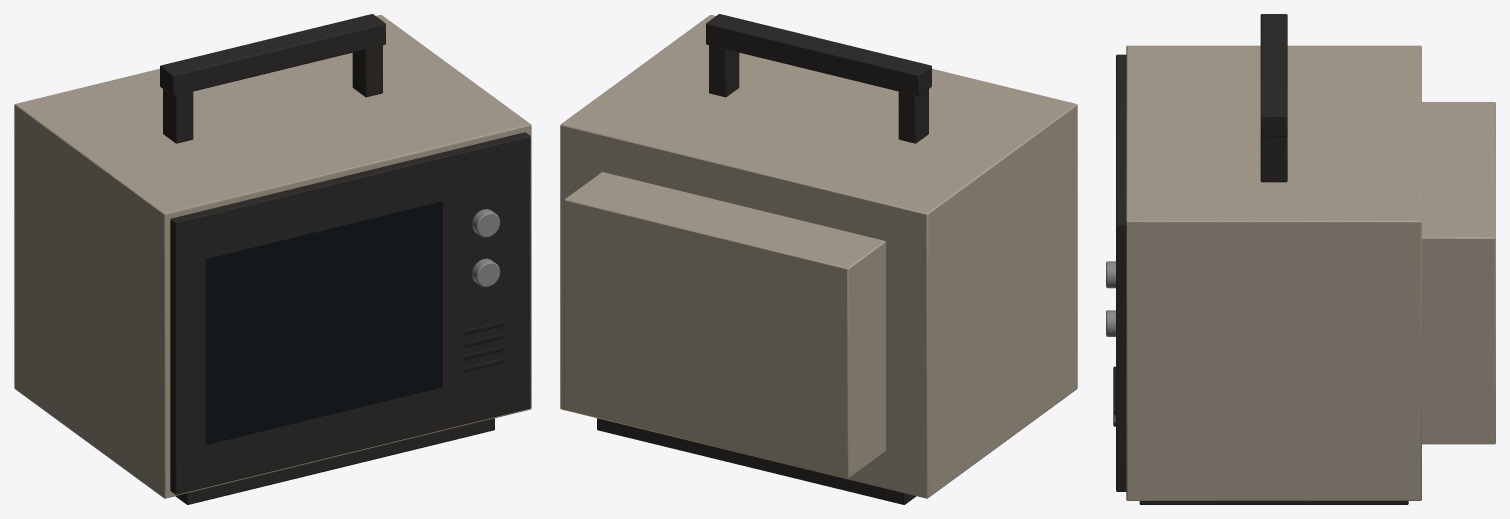
Rendered from SM_F_TV_Portable.gltf.
3 renders of one model, left to right at view 1: azimuth 30°, elevation 25°; view 2: azimuth 150°, elevation 25°; view 3: azimuth 270°, elevation 25°, orthographic.
Visible parts, largest first — view 1: SM_F_TV_Portable_LookDev02__Body, SM_F_TV_Portable_LookDev02__Screen; view 2: SM_F_TV_Portable_LookDev02__Body; view 3: SM_F_TV_Portable_LookDev02__Body.
Part boxes in pixels (<box>): SM_F_TV_Portable_LookDev02__Body: <box>14,14,531,504</box>; SM_F_TV_Portable_LookDev02__Screen: <box>205,201,442,444</box>; SM_F_TV_Portable_LookDev02__Body: <box>560,14,1077,504</box>; SM_F_TV_Portable_LookDev02__Body: <box>1106,14,1495,504</box>.
Size of the model in its own units: 0.62 by 0.6025 by 0.58.
5 materials, 4 textured.
